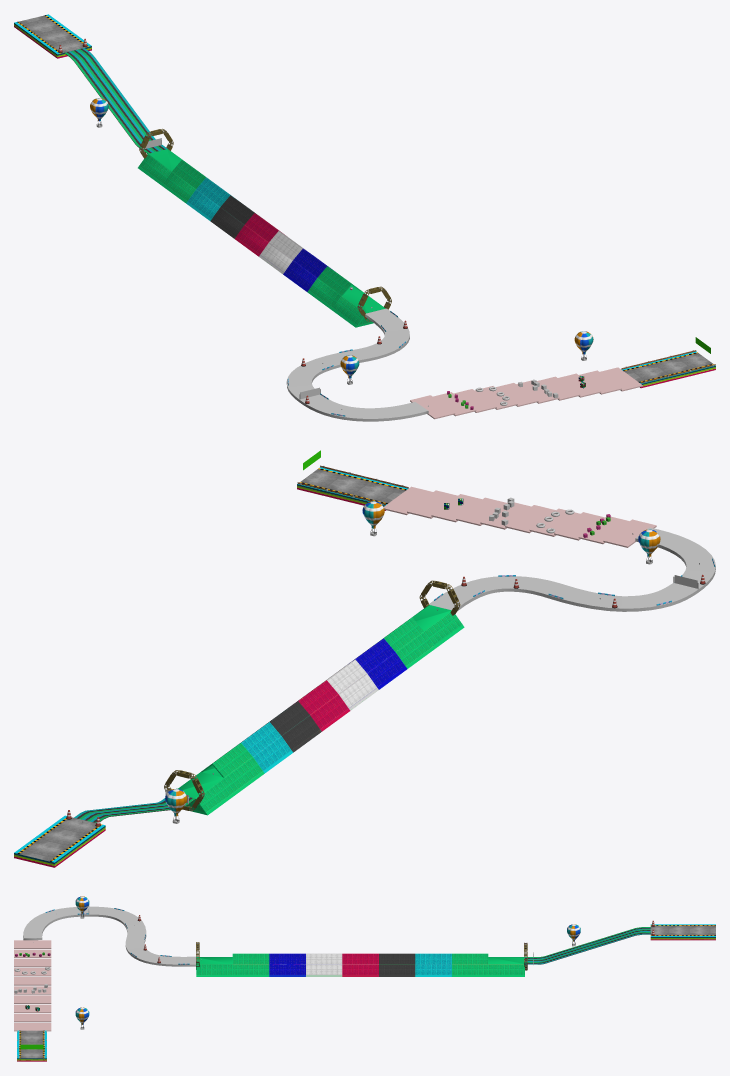
The model's file is Level 4.fbx.
3 views of the same model, one above another, from view 1: azimuth 30°, elevation 25°; view 2: azimuth 150°, elevation 25°; view 3: azimuth 270°, elevation 25° (orthographic). The views are drawn at different scales.
Parts seen in each view (by area): view 1: _80_mesh, curve_small_2, Object409, _88_mesh, _108_mesh_2, _108_mesh, _108_mesh_1; view 2: _80_mesh, curve_small_2, _88_mesh, Object409, Color_Ramp_1, Color_Ramp_5, Color_Ramp_9, Color_Ramp_10, Color_Ramp_7, Color_Ramp_3; view 3: _80_mesh, curve_small_2, _88_mesh, Object409, _108_mesh, _108_mesh_2, _108_mesh_1, Color_Ramp_9, Color_Ramp_3, Color_Ramp_7, Color_Ramp_1, Color_Ramp_5 (+4 smaller).
Boxes of the visible parts, x1,y1,x2,y2 form: _80_mesh: [138, 149, 385, 327]; curve_small_2: [286, 308, 428, 421]; Object409: [622, 351, 715, 388]; _88_mesh: [14, 14, 91, 58]; _108_mesh_2: [64, 51, 153, 153]; _108_mesh: [78, 48, 167, 150]; _108_mesh_1: [71, 49, 160, 151]; _80_mesh: [178, 605, 464, 815]; curve_small_2: [429, 527, 715, 611]; _88_mesh: [14, 815, 105, 867]; Object409: [297, 467, 408, 510]; Color_Ramp_1: [603, 519, 656, 547]; Color_Ramp_5: [505, 505, 555, 533]; Color_Ramp_9: [407, 490, 457, 518]; Color_Ramp_10: [383, 486, 432, 515]; Color_Ramp_7: [456, 497, 506, 525]; Color_Ramp_3: [554, 512, 604, 540]; _80_mesh: [196, 953, 524, 976]; curve_small_2: [23, 906, 195, 966]; _88_mesh: [650, 924, 715, 940]; Object409: [17, 1030, 46, 1061]; _108_mesh: [525, 932, 650, 964]; _108_mesh_2: [525, 927, 650, 959]; _108_mesh_1: [525, 929, 650, 961]; Color_Ramp_9: [14, 1013, 51, 1022]; Color_Ramp_3: [14, 958, 51, 967]; Color_Ramp_7: [14, 995, 51, 1003]; Color_Ramp_1: [14, 940, 51, 948]; Color_Ramp_5: [14, 977, 51, 985].
Bounding box in the file's own units: 44120 × 8339 × 96462.
